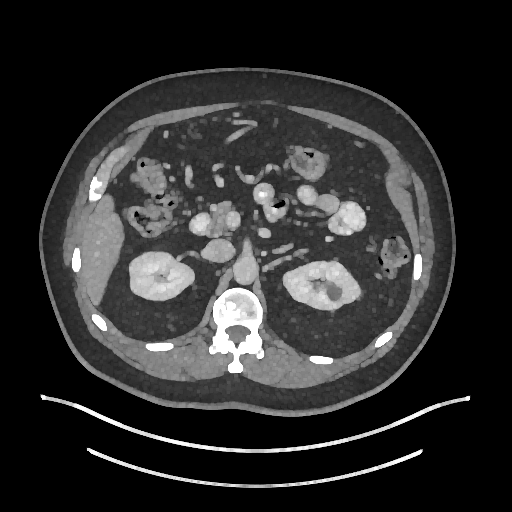Lesion: (320, 283, 347, 304)
